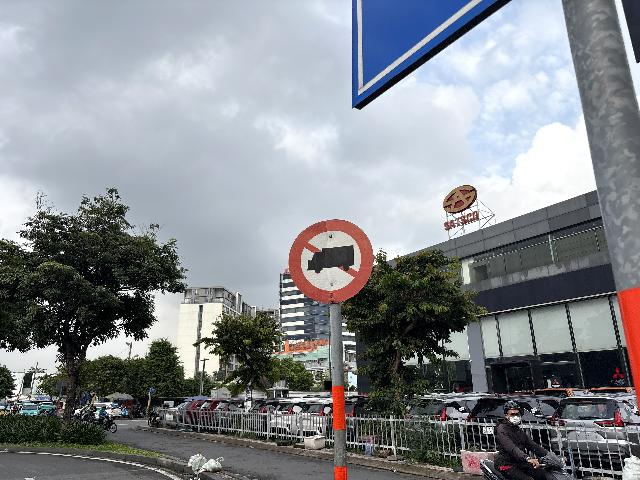cam-xe-tai: (288, 218, 373, 303)
